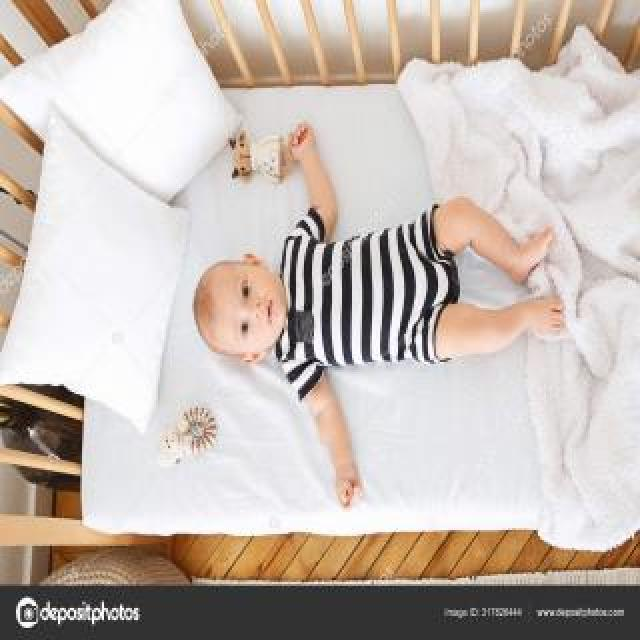baby: (189, 124, 567, 506)
